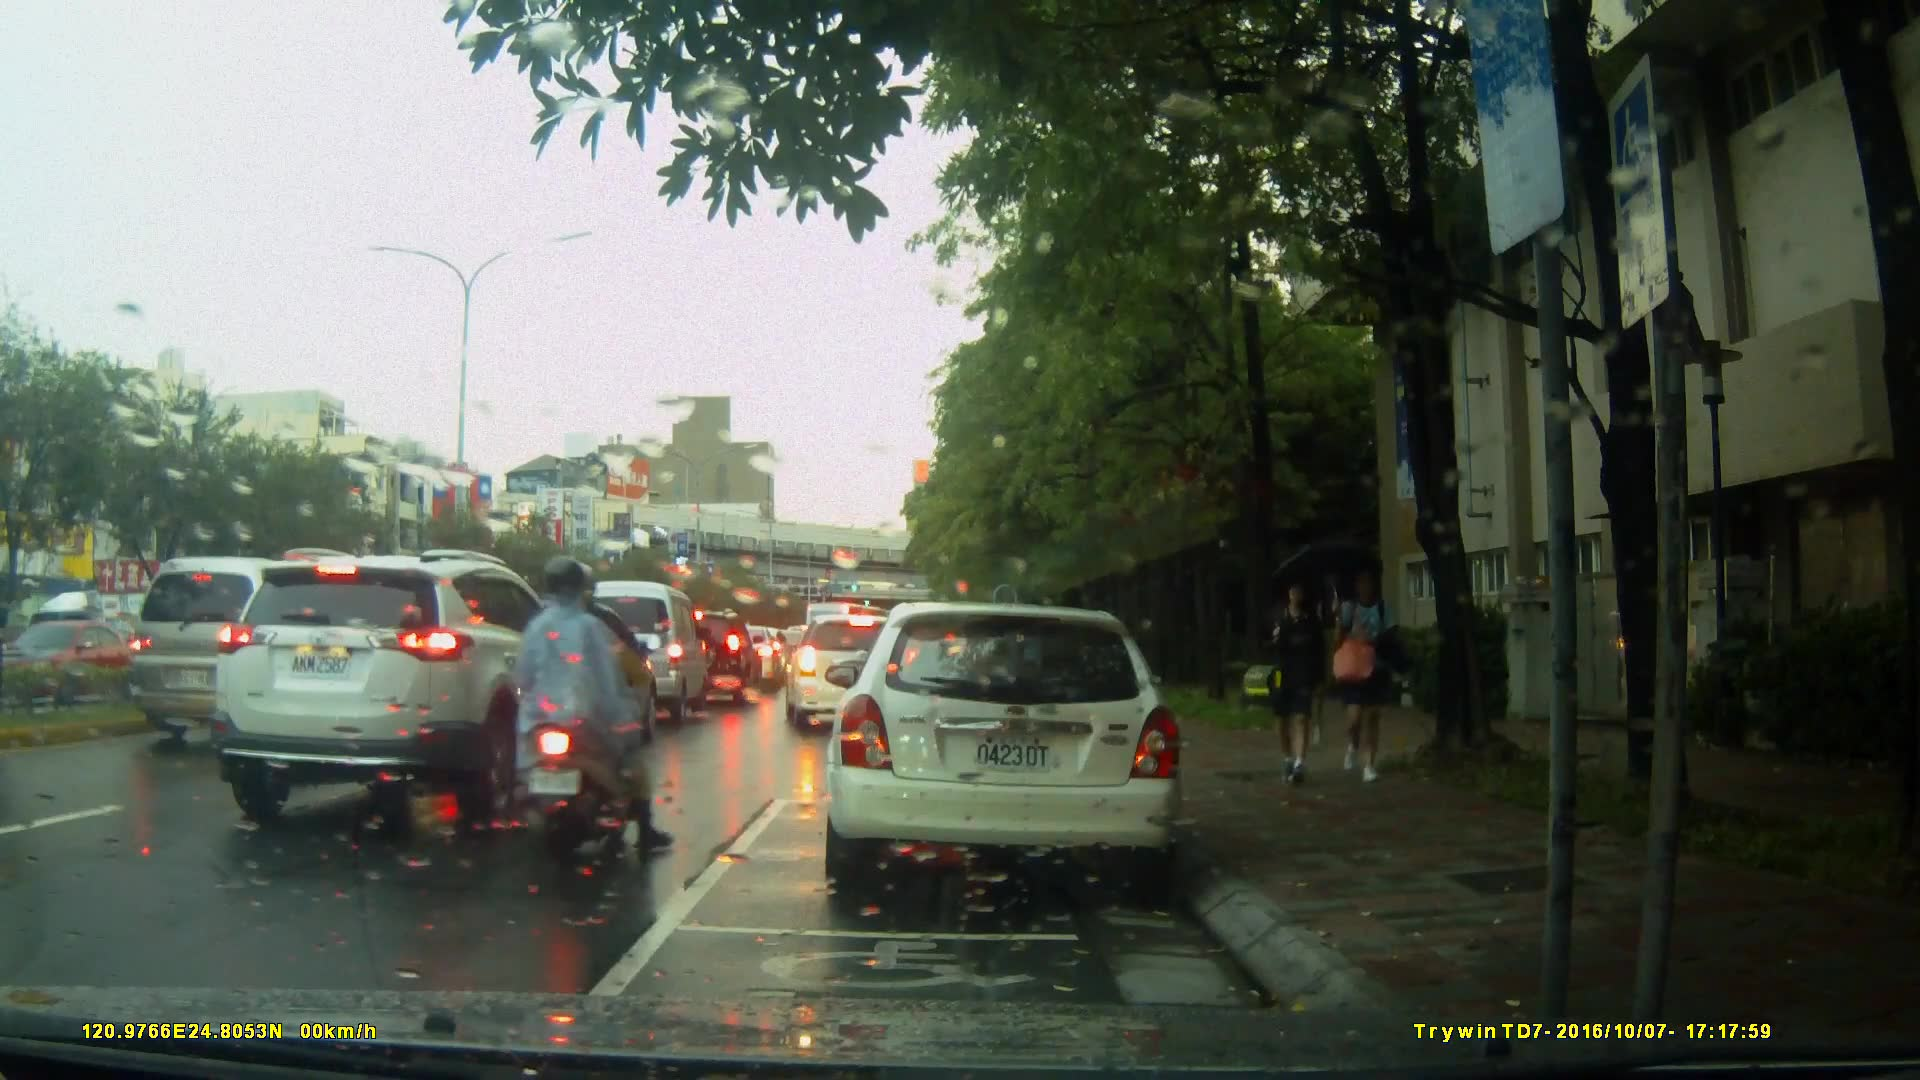pedestrian: (1253, 571, 1337, 793), (1317, 565, 1392, 791)
rider: (510, 564, 676, 862)
vehicle: (815, 593, 1204, 909), (210, 549, 612, 825), (127, 553, 329, 732), (461, 599, 666, 759), (568, 580, 711, 729), (784, 611, 925, 730), (1, 618, 138, 709), (655, 610, 760, 702)
